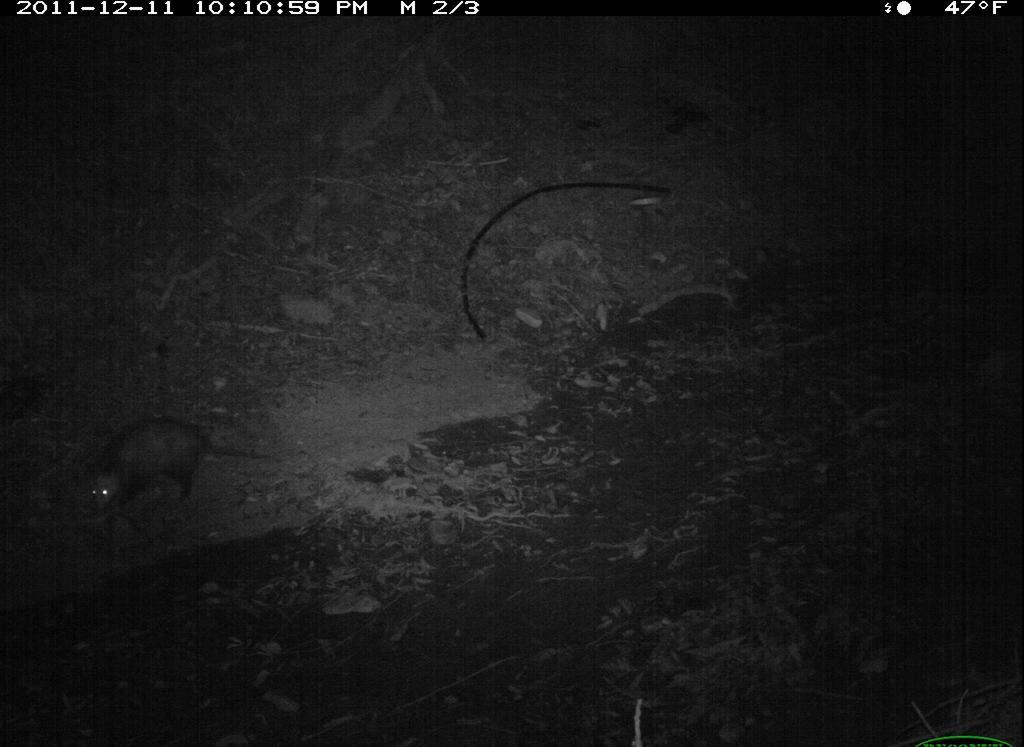opossum: (79, 410, 287, 530)
